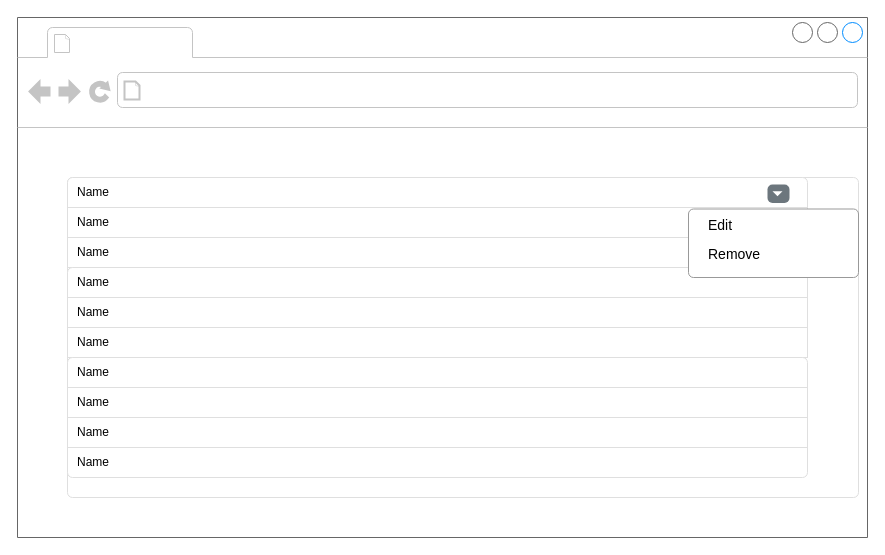
Some shapes in this 885 by 555 pixel diagram are drawn without their labels. The box of each missing label's shape, as (x1, y1, x2, y2) in pixels:
https://www.draw.io: (146, 76, 398, 104)
Page 1: (76, 28, 188, 56)
